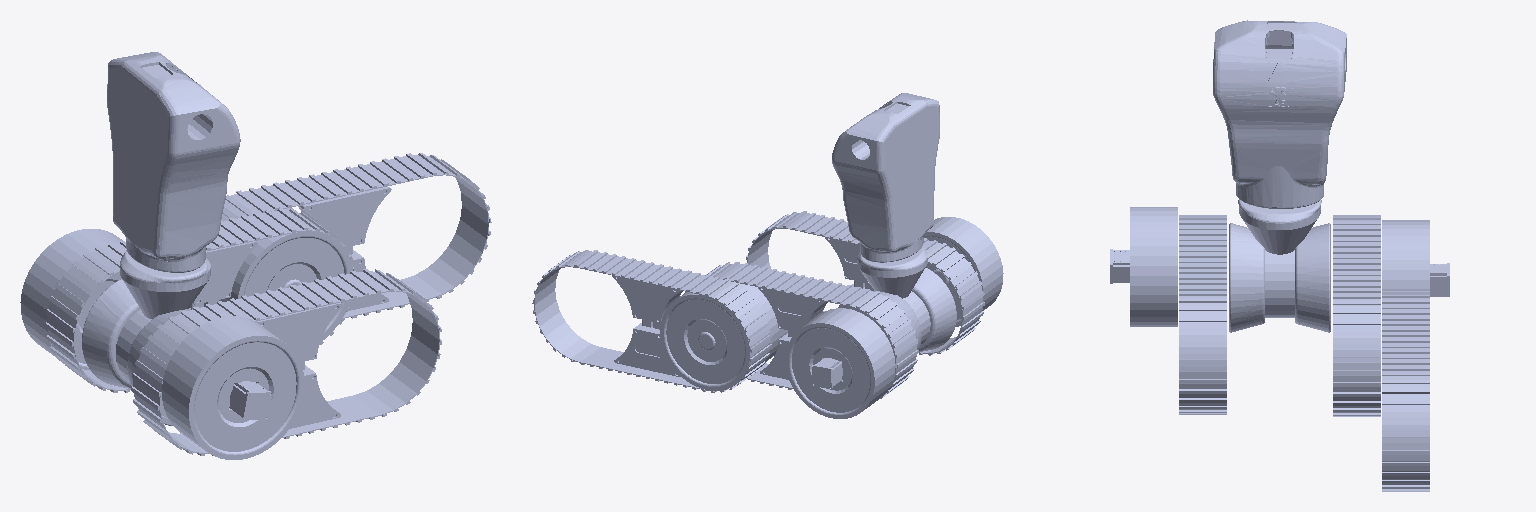
URDF robot description (robot-description-steve):
<?xml version="1.0" encoding="utf-8"?>
<!-- This URDF was automatically created by SolidWorks to URDF Exporter! Originally created by [author] ([email redacted]) 
     Commit Version: 1.5.0-0-g9aa0fdb  Build Version: 1.5.7004.21443
     For more information, please see http://wiki.ros.org/sw_urdf_exporter -->
<robot
  name="robot-description-steve">
  <link
    name="base_link">
    <inertial>
      <origin
        xyz="0.0593277196241563 -0.229051233143237 0.316329557872373"
        rpy="0 0 0" />
      <mass
        value="6.90496213213785" />
      <inertia
        ixx="0.0618749358211769"
        ixy="-5.3067058074027E-07"
        ixz="-0.000799972791594144"
        iyy="0.0558956803247678"
        iyz="-5.54041887306506E-07"
        izz="0.0408724634072406" />
    </inertial>
    <visual>
      <origin
        xyz="0 0 0"
        rpy="0 0 0" />
      <geometry>
        <mesh
          filename="package://robot-description-steve/meshes/base_link.STL" />
      </geometry>
      <material
        name="">
        <color
          rgba="0.792156862745098 0.819607843137255 0.933333333333333 1" />
      </material>
    </visual>
    <collision>
      <origin
        xyz="0 0 0"
        rpy="0 0 0" />
      <geometry>
        <mesh
          filename="package://robot-description-steve/meshes/base_link.STL" />
      </geometry>
    </collision>
  </link>
  <link
    name="left_inner_rear_track_link">
    <inertial>
      <origin
        xyz="-0.349997450379706 0.00133593701273016 -0.000219496335036484"
        rpy="0 0 0" />
      <mass
        value="4.17528833969495" />
      <inertia
        ixx="0.0207172056407418"
        ixy="-1.2308539523167E-08"
        ixz="1.79164400383787E-13"
        iyy="0.0207154350933204"
        iyz="2.55544567320371E-11"
        izz="0.0356331254802435" />
    </inertial>
    <visual>
      <origin
        xyz="0 0 0"
        rpy="0 0 0" />
      <geometry>
        <mesh
          filename="package://robot-description-steve/meshes/left_inner_rear_track_link.STL" />
      </geometry>
      <material
        name="">
        <color
          rgba="0.792156862745098 0.819607843137255 0.933333333333333 1" />
      </material>
    </visual>
    <collision>
      <origin
        xyz="0 0 0"
        rpy="0 0 0" />
      <geometry>
        <mesh
          filename="package://robot-description-steve/meshes/left_inner_rear_track_link.STL" />
      </geometry>
    </collision>
  </link>
  <joint
    name="left_inner_rear_track_joint"
    type="fixed">
    <origin
      xyz="0.40808 -0.068572 0.27695"
      rpy="1.5708 0.031025 0" />
    <parent
      link="base_link" />
    <child
      link="left_inner_rear_track_link" />
    <axis
      xyz="0 0 0" />
    <limit
      lower="0"
      upper="0"
      effort="0"
      velocity="0" />
    <safety_controller
      k_velocity="0" />
  </joint>
  <link
    name="left_inner_track_base_link">
    <inertial>
      <origin
        xyz="0.207914697106206 -0.000374618691389161 -0.00134460830658922"
        rpy="0 0 0" />
      <mass
        value="2.20888146035223" />
      <inertia
        ixx="0.0176750004221534"
        ixy="1.80580947801762E-07"
        ixz="-3.0810884731037E-06"
        iyy="0.0230757058106448"
        iyz="-1.32662462436422E-05"
        izz="0.0385405863901358" />
    </inertial>
    <visual>
      <origin
        xyz="0 0 0"
        rpy="0 0 0" />
      <geometry>
        <mesh
          filename="package://robot-description-steve/meshes/left_inner_track_base_link.STL" />
      </geometry>
      <material
        name="">
        <color
          rgba="0.792156862745098 0.819607843137255 0.933333333333333 1" />
      </material>
    </visual>
    <collision>
      <origin
        xyz="0 0 0"
        rpy="0 0 0" />
      <geometry>
        <mesh
          filename="package://robot-description-steve/meshes/left_inner_track_base_link.STL" />
      </geometry>
    </collision>
  </link>
  <joint
    name="left_inner_track_base_joint"
    type="fixed">
    <origin
      xyz="-0.38203 0.0023495 0.0065379"
      rpy="0 0 0" />
    <parent
      link="left_inner_rear_track_link" />
    <child
      link="left_inner_track_base_link" />
    <axis
      xyz="0 0 0" />
    <safety_controller
      k_velocity="0" />
  </joint>
  <link
    name="left_inner_front_track_link">
    <inertial>
      <origin
        xyz="0.000219496334918079 0.00133590913055326 -8.99941240734004E-06"
        rpy="0 0 0" />
      <mass
        value="4.17528833969494" />
      <inertia
        ixx="0.0356331254802435"
        ixy="2.555507400009E-11"
        ixz="-2.01417804651797E-10"
        iyy="0.0207154350077636"
        iyz="1.02310762553862E-10"
        izz="0.0207172057262986" />
    </inertial>
    <visual>
      <origin
        xyz="0 0 0"
        rpy="0 0 0" />
      <geometry>
        <mesh
          filename="package://robot-description-steve/meshes/left_inner_front_track_link.STL" />
      </geometry>
      <material
        name="">
        <color
          rgba="0.792156862745098 0.819607843137255 0.933333333333333 1" />
      </material>
    </visual>
    <collision>
      <origin
        xyz="0 0 0"
        rpy="0 0 0" />
      <geometry>
        <mesh
          filename="package://robot-description-steve/meshes/left_inner_front_track_link.STL" />
      </geometry>
    </collision>
  </link>
  <joint
    name="left_inner_front_track_joint"
    type="revolute">
    <origin
      xyz="0.38203 -0.0023495 -0.0065379"
      rpy="3.1416 -1.5708 -3.1368" />
    <parent
      link="left_inner_track_base_link" />
    <child
      link="left_inner_front_track_link" />
    <axis
      xyz="0 0 0" />
    <limit
      lower="0"
      upper="0"
      effort="0"
      velocity="0" />
    <safety_controller
      k_velocity="0" />
  </joint>
  <link
    name="left_outer_track_front_link">
    <inertial>
      <origin
        xyz="0.000219496335038351 -4.7526982349666E-12 8.49875725350557E-14"
        rpy="0 0 0" />
      <mass
        value="4.17528833969495" />
      <inertia
        ixx="0.0356331254802435"
        ixy="-1.94648490867413E-10"
        ixz="5.74457472388291E-12"
        iyy="0.0207154350077636"
        iyz="1.02310760685608E-10"
        izz="0.0207172057262986" />
    </inertial>
    <visual>
      <origin
        xyz="0 0 0"
        rpy="0 0 0" />
      <geometry>
        <mesh
          filename="package://robot-description-steve/meshes/left_outer_track_front_link.STL" />
      </geometry>
      <material
        name="">
        <color
          rgba="0.792156862745098 0.819607843137255 0.933333333333333 1" />
      </material>
    </visual>
    <collision>
      <origin
        xyz="0 0 0"
        rpy="0 0 0" />
      <geometry>
        <mesh
          filename="package://robot-description-steve/meshes/left_outer_track_front_link.STL" />
      </geometry>
    </collision>
  </link>
  <joint
    name="left_outer_track_front_joint"
    type="revolute">
    <origin
      xyz="-0.10172 0.0013359 0"
      rpy="3.1416 0 3.1416" />
    <parent
      link="left_inner_front_track_link" />
    <child
      link="left_outer_track_front_link" />
    <axis
      xyz="0 0 0" />
    <limit
      lower="0"
      upper="0"
      effort="0"
      velocity="0" />
    <safety_controller
      k_velocity="0" />
  </joint>
  <link
    name="left_out_track_base_link">
    <inertial>
      <origin
        xyz="0.556089729442852 0.00357285667202806 -0.00134460830658952"
        rpy="0 0 0" />
      <mass
        value="2.20888146035223" />
      <inertia
        ixx="0.0176798530081793"
        ixy="-0.000161814314928809"
        ixz="2.68159951866128E-06"
        iyy="0.0230708532246189"
        iyz="1.33527307917796E-05"
        izz="0.0385405863901358" />
    </inertial>
    <visual>
      <origin
        xyz="0 0 0"
        rpy="0 0 0" />
      <geometry>
        <mesh
          filename="package://robot-description-steve/meshes/left_out_track_base_link.STL" />
      </geometry>
      <material
        name="">
        <color
          rgba="0.792156862745098 0.819607843137255 0.933333333333333 1" />
      </material>
    </visual>
    <collision>
      <origin
        xyz="0 0 0"
        rpy="0 0 0" />
      <geometry>
        <mesh
          filename="package://robot-description-steve/meshes/left_out_track_base_link.STL" />
      </geometry>
    </collision>
  </link>
  <joint
    name="left_out_track_base_joint"
    type="fixed">
    <origin
      xyz="-0.0065379 0.011325 -0.38187"
      rpy="1.5708 -1.5438 -1.5708" />
    <parent
      link="left_outer_track_front_link" />
    <child
      link="left_out_track_base_link" />
    <axis
      xyz="0 0 0" />
    <safety_controller
      k_velocity="0" />
  </joint>
  <link
    name="left_outer_track_rear_link">
    <inertial>
      <origin
        xyz="-0.103779823588152 0.0167082536653019 -0.349616522491217"
        rpy="0 0 0" />
      <mass
        value="4.50966940783013" />
      <inertia
        ixx="0.0357811712676883"
        ixy="-7.61535276005164E-11"
        ixz="2.36153042694423E-09"
        iyy="0.0215005337010882"
        iyz="-3.07257764548323E-08"
        izz="0.0215020926347852" />
    </inertial>
    <visual>
      <origin
        xyz="0 0 0"
        rpy="0 0 0" />
      <geometry>
        <mesh
          filename="package://robot-description-steve/meshes/left_outer_track_rear_link.STL" />
      </geometry>
      <material
        name="">
        <color
          rgba="0.792156862745098 0.819607843137255 0.933333333333333 1" />
      </material>
    </visual>
    <collision>
      <origin
        xyz="0 0 0"
        rpy="0 0 0" />
      <geometry>
        <mesh
          filename="package://robot-description-steve/meshes/left_outer_track_rear_link.STL" />
      </geometry>
    </collision>
  </link>
  <joint
    name="left_outer_track_rear_joint"
    type="continuous">
    <origin
      xyz="0.38206 -0.0023492 0.095182"
      rpy="3.1277 -1.5708 0" />
    <parent
      link="left_out_track_base_link" />
    <child
      link="left_outer_track_rear_link" />
    <axis
      xyz="0 0 0" />
    <safety_controller
      k_velocity="0" />
  </joint>
  <link
    name="right_inner_track_link">
    <inertial>
      <origin
        xyz="0.000219496335037928 1.50746082283604E-12 -1.14838694109665E-13"
        rpy="0 0 0" />
      <mass
        value="4.17528833969495" />
      <inertia
        ixx="0.0356331254802435"
        ixy="-2.54811794433398E-11"
        ixz="1.94202072011575E-12"
        iyy="0.0207154452496313"
        iyz="1.34277993979232E-07"
        izz="0.0207171954844308" />
    </inertial>
    <visual>
      <origin
        xyz="0 0 0"
        rpy="0 0 0" />
      <geometry>
        <mesh
          filename="package://robot-description-steve/meshes/right_inner_track_link.STL" />
      </geometry>
      <material
        name="">
        <color
          rgba="0.792156862745098 0.819607843137255 0.933333333333333 1" />
      </material>
    </visual>
    <collision>
      <origin
        xyz="0 0 0"
        rpy="0 0 0" />
      <geometry>
        <mesh
          filename="package://robot-description-steve/meshes/right_inner_track_link.STL" />
      </geometry>
    </collision>
  </link>
  <joint
    name="right_inner_track_joint"
    type="fixed">
    <origin
      xyz="0.058294 -0.38953 0.28914"
      rpy="1.6088 0 -1.5708" />
    <parent
      link="base_link" />
    <child
      link="right_inner_track_link" />
    <axis
      xyz="0 0 0" />
    <limit
      lower="0"
      upper="0"
      effort="0"
      velocity="0" />
    <safety_controller
      k_velocity="0" />
  </joint>
  <link
    name="right_inner_track_base_link">
    <inertial>
      <origin
        xyz="0.175882862618142 0.000638911171242929 -0.0048066922034215"
        rpy="0 0 0" />
      <mass
        value="2.20888146035223" />
      <inertia
        ixx="0.0176750004221534"
        ixy="1.8058094783979E-07"
        ixz="-3.08108847313072E-06"
        iyy="0.0230757058106447"
        iyz="-1.32662462436358E-05"
        izz="0.0385405863901357" />
    </inertial>
    <visual>
      <origin
        xyz="0 0 0"
        rpy="0 0 0" />
      <geometry>
        <mesh
          filename="package://robot-description-steve/meshes/right_inner_track_base_link.STL" />
      </geometry>
      <material
        name="">
        <color
          rgba="0.792156862745098 0.819607843137255 0.933333333333333 1" />
      </material>
    </visual>
    <collision>
      <origin
        xyz="0 0 0"
        rpy="0 0 0" />
      <geometry>
        <mesh
          filename="package://robot-description-steve/meshes/right_inner_track_base_link.STL" />
      </geometry>
    </collision>
  </link>
  <joint
    name="right_inner_track_base_joint"
    type="fixed">
    <origin
      xyz="0.01 0 0"
      rpy="-1.5708 1.5171 -1.5708" />
    <parent
      link="right_inner_track_link" />
    <child
      link="right_inner_track_base_link" />
    <axis
      xyz="0 0 0" />
    <safety_controller
      k_velocity="0" />
  </joint>
  <link
    name="right_inner_track_front_link">
    <inertial>
      <origin
        xyz="0.000219496335038039 3.99963395736336E-12 1.30506716544687E-13"
        rpy="0 0 0" />
      <mass
        value="4.17528833969495" />
      <inertia
        ixx="0.0356331254802435"
        ixy="1.43625593681322E-10"
        ixz="3.84908041926739E-12"
        iyy="0.0207154377132131"
        iyz="-6.91612649754836E-08"
        izz="0.0207172030208491" />
    </inertial>
    <visual>
      <origin
        xyz="0 0 0"
        rpy="0 0 0" />
      <geometry>
        <mesh
          filename="package://robot-description-steve/meshes/right_inner_track_front_link.STL" />
      </geometry>
      <material
        name="">
        <color
          rgba="0.792156862745098 0.819607843137255 0.933333333333333 1" />
      </material>
    </visual>
    <collision>
      <origin
        xyz="0 0 0"
        rpy="0 0 0" />
      <geometry>
        <mesh
          filename="package://robot-description-steve/meshes/right_inner_track_front_link.STL" />
      </geometry>
    </collision>
  </link>
  <joint
    name="right_inner_track_front_joint"
    type="revolute">
    <origin
      xyz="0.35 0 -0.01"
      rpy="0.045111 1.5708 0" />
    <parent
      link="right_inner_track_base_link" />
    <child
      link="right_inner_track_front_link" />
    <axis
      xyz="0 0 0" />
    <limit
      lower="0"
      upper="0"
      effort="0"
      velocity="0" />
    <safety_controller
      k_velocity="0" />
  </joint>
  <link
    name="right_outer_track_front_link">
    <inertial>
      <origin
        xyz="1.3996026559937E-12 -0.0533139967701027 3.75642966732315E-08"
        rpy="0 0 0" />
      <mass
        value="4.50966940783013" />
      <inertia
        ixx="0.0214124438142607"
        ixy="2.55670994407371E-11"
        ixz="1.02310770342924E-10"
        iyy="0.0357811712676882"
        iyz="-6.29229956531558E-09"
        izz="0.0214140039586526" />
    </inertial>
    <visual>
      <origin
        xyz="0 0 0"
        rpy="0 0 0" />
      <geometry>
        <mesh
          filename="package://robot-description-steve/meshes/right_outer_track_front_link.STL" />
      </geometry>
      <material
        name="">
        <color
          rgba="0.792156862745098 0.819607843137255 0.933333333333333 1" />
      </material>
    </visual>
    <collision>
      <origin
        xyz="0 0 0"
        rpy="0 0 0" />
      <geometry>
        <mesh
          filename="package://robot-description-steve/meshes/right_outer_track_front_link.STL" />
      </geometry>
    </collision>
  </link>
  <joint
    name="right_outer_track_front_joint"
    type="revolute">
    <origin
      xyz="-0.04672 0 0"
      rpy="0 -1.5316 -1.5708" />
    <parent
      link="right_inner_track_front_link" />
    <child
      link="right_outer_track_front_link" />
    <axis
      xyz="0 0 0" />
    <limit
      lower="0"
      upper="0"
      effort="0"
      velocity="0" />
    <safety_controller
      k_velocity="0" />
  </joint>
  <link
    name="right_outer_track_base_link">
    <inertial>
      <origin
        xyz="0.207914697106206 -0.000374618691388884 -0.00134460830658928"
        rpy="0 0 0" />
      <mass
        value="2.20888146035223" />
      <inertia
        ixx="0.0176750004221534"
        ixy="1.80580947784231E-07"
        ixz="-3.08108847310653E-06"
        iyy="0.0230757058106449"
        iyz="-1.32662462436479E-05"
        izz="0.0385405863901359" />
    </inertial>
    <visual>
      <origin
        xyz="0 0 0"
        rpy="0 0 0" />
      <geometry>
        <mesh
          filename="package://robot-description-steve/meshes/right_outer_track_base_link.STL" />
      </geometry>
      <material
        name="">
        <color
          rgba="0.792156862745098 0.819607843137255 0.933333333333333 1" />
      </material>
    </visual>
    <collision>
      <origin
        xyz="0 0 0"
        rpy="0 0 0" />
      <geometry>
        <mesh
          filename="package://robot-description-steve/meshes/right_outer_track_base_link.STL" />
      </geometry>
    </collision>
  </link>
  <joint
    name="right_outer_track_base_joint"
    type="fixed">
    <origin
      xyz="-0.38202 -0.061538 -0.0027053"
      rpy="1.5708 -0.0097345 0" />
    <parent
      link="right_outer_track_front_link" />
    <child
      link="right_outer_track_base_link" />
    <axis
      xyz="0 0 0" />
    <safety_controller
      k_velocity="0" />
  </joint>
  <link
    name="right_outer_rear_track_joint">
    <inertial>
      <origin
        xyz="-0.00205981876088107 -0.00999999113179895 -3.65024844239947E-08"
        rpy="0 0 0" />
      <mass
        value="4.50966940783013" />
      <inertia
        ixx="0.0357811712676883"
        ixy="6.29232664190251E-10"
        ixz="-2.48127828898604E-09"
        iyy="0.0215006200286184"
        iyz="-3.578694269125E-07"
        izz="0.0215020063072552" />
    </inertial>
    <visual>
      <origin
        xyz="0 0 0"
        rpy="0 0 0" />
      <geometry>
        <mesh
          filename="package://robot-description-steve/meshes/right_outer_rear_track_joint.STL" />
      </geometry>
      <material
        name="">
        <color
          rgba="0.792156862745098 0.819607843137255 0.933333333333333 1" />
      </material>
    </visual>
    <collision>
      <origin
        xyz="0 0 0"
        rpy="0 0 0" />
      <geometry>
        <mesh
          filename="package://robot-description-steve/meshes/right_outer_rear_track_joint.STL" />
      </geometry>
    </collision>
  </link>
  <joint
    name="right_outer_rear_track_joint"
    type="continuous">
    <origin
      xyz="0.033221 -0.010943 -0.0065379"
      rpy="3.0224 1.5708 0" />
    <parent
      link="right_outer_track_base_link" />
    <child
      link="right_outer_rear_track_joint" />
    <axis
      xyz="0 0 0" />
    <safety_controller
      k_velocity="0" />
  </joint>
  <link
    name="torso_upper_link">
    <inertial>
      <origin
        xyz="9.37829586489247E-07 0.0377357679131104 0.0062037885316812"
        rpy="0 0 0" />
      <mass
        value="10.7560435121429" />
      <inertia
        ixx="0.126725000951128"
        ixy="5.37495458695315E-06"
        ixz="-1.61231695886563E-06"
        iyy="0.0655091626527598"
        iyz="0.000331778108296721"
        izz="0.155706969791532" />
    </inertial>
    <visual>
      <origin
        xyz="0 0 0"
        rpy="0 0 0" />
      <geometry>
        <mesh
          filename="package://robot-description-steve/meshes/torso_upper_link.STL" />
      </geometry>
      <material
        name="">
        <color
          rgba="0.792156862745098 0.819607843137255 0.933333333333333 1" />
      </material>
    </visual>
    <collision>
      <origin
        xyz="0 0 0"
        rpy="0 0 0" />
      <geometry>
        <mesh
          filename="package://robot-description-steve/meshes/torso_upper_link.STL" />
      </geometry>
    </collision>
  </link>
  <joint
    name="torso_upper_joint"
    type="fixed">
    <origin
      xyz="0.066422 -0.22881 0.63873"
      rpy="1.6088 0.001755 1.5247" />
    <parent
      link="base_link" />
    <child
      link="torso_upper_link" />
    <axis
      xyz="0 0 0" />
    <safety_controller
      k_velocity="0" />
  </joint>
</robot>

--- Facts derived from the render (not from the file) ---
Views: 3 orthographic renders of the robot side by side, from view 1: azimuth 30°, elevation 25°; view 2: azimuth 150°, elevation 25°; view 3: azimuth 270°, elevation 25°.
Model robot-description-steve with 14 links and 13 joints (4 revolute, 2 continuous, 7 fixed), rooted at base_link, posed every joint at zero.
Visible links, largest first — view 1: torso_upper_link, right_inner_track_base_link, right_outer_rear_track_joint, left_out_track_base_link, left_inner_track_base_link, base_link, left_inner_front_track_link, left_outer_track_rear_link; view 2: torso_upper_link, left_out_track_base_link, left_outer_track_rear_link, left_inner_track_base_link, left_outer_track_front_link, right_inner_track_base_link, base_link, right_outer_rear_track_joint, left_inner_front_track_link; view 3: torso_upper_link, base_link, left_inner_track_base_link, left_out_track_base_link, right_inner_track_base_link, right_outer_rear_track_joint, left_outer_track_rear_link.
Link boxes in pixels (bbox=[...]): torso_upper_link: bbox=[107, 52, 240, 272]; right_inner_track_base_link: bbox=[131, 269, 441, 455]; right_outer_rear_track_joint: bbox=[162, 316, 304, 459]; left_out_track_base_link: bbox=[221, 153, 491, 320]; left_inner_track_base_link: bbox=[45, 208, 355, 392]; base_link: bbox=[82, 250, 210, 425]; left_inner_front_track_link: bbox=[219, 231, 352, 340]; left_outer_track_rear_link: bbox=[20, 229, 122, 370]; torso_upper_link: bbox=[832, 93, 939, 262]; left_out_track_base_link: bbox=[532, 250, 771, 392]; left_outer_track_rear_link: bbox=[785, 308, 895, 418]; left_inner_track_base_link: bbox=[685, 262, 918, 398]; left_outer_track_front_link: bbox=[660, 292, 749, 390]; right_inner_track_base_link: bbox=[746, 211, 984, 355]; base_link: bbox=[838, 246, 956, 368]; right_outer_rear_track_joint: bbox=[923, 217, 1003, 326]; left_inner_front_track_link: bbox=[730, 281, 787, 361]; torso_upper_link: bbox=[1213, 20, 1346, 208]; base_link: bbox=[1229, 199, 1330, 332]; left_inner_track_base_link: bbox=[1333, 215, 1380, 416]; left_out_track_base_link: bbox=[1382, 291, 1429, 491]; right_inner_track_base_link: bbox=[1179, 215, 1226, 414]; right_outer_rear_track_joint: bbox=[1110, 207, 1177, 326]; left_outer_track_rear_link: bbox=[1382, 220, 1449, 296].
Bounding box of the posed robot: 0.9616 × 0.7064 × 0.7264 m (x, y, z).
Meshes: 14 distinct files referenced, 9 mesh visuals loaded (9 binary STL); not drawn: 5 (reference not matched to a file when rendering).
